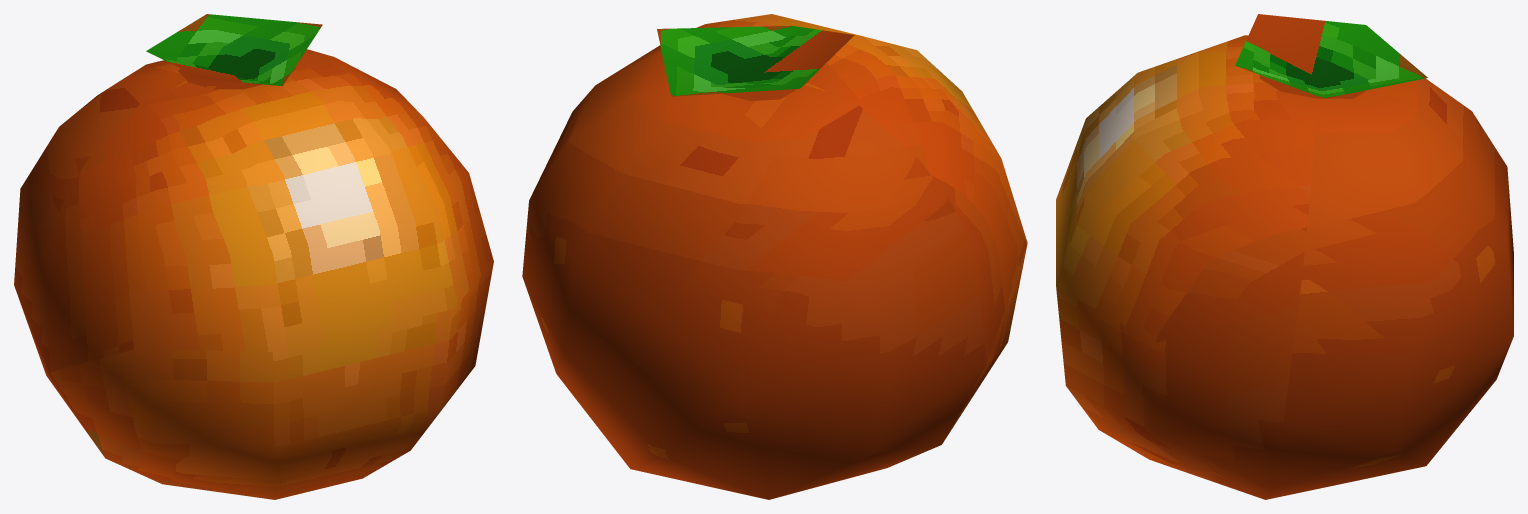
The model's file is fg_orange.dae.
3 views of the same model, side by side, from view 1: azimuth 30°, elevation 25°; view 2: azimuth 150°, elevation 25°; view 3: azimuth 270°, elevation 25° (orthographic). The views are drawn at different scales.
Parts seen in each view (by area): view 1: fg_orange; view 2: fg_orange; view 3: fg_orange.
Part boxes in pixels (x1,y1,x2,y2): fg_orange: [14, 14, 493, 499]; fg_orange: [522, 14, 1027, 499]; fg_orange: [1056, 14, 1513, 499].
Bounding box in the file's own units: 13.1 × 12.99 × 12.66.
